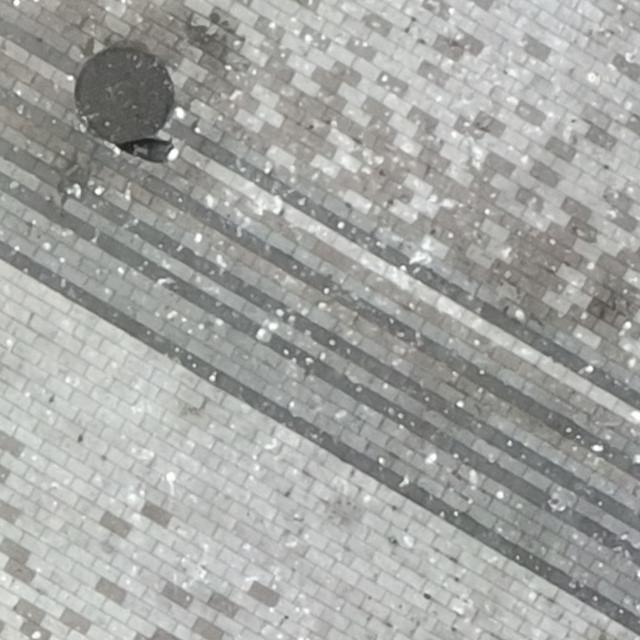umineko: (134, 141, 178, 160)
